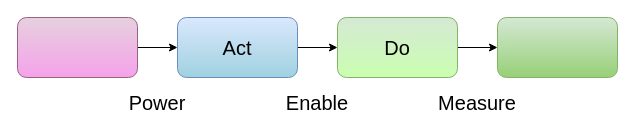
This 635x135 diagram has some shape labels left out. Each missing label, with the centre of its shape:
Plan: the point at 77,47
Succeed: the point at 557,47
